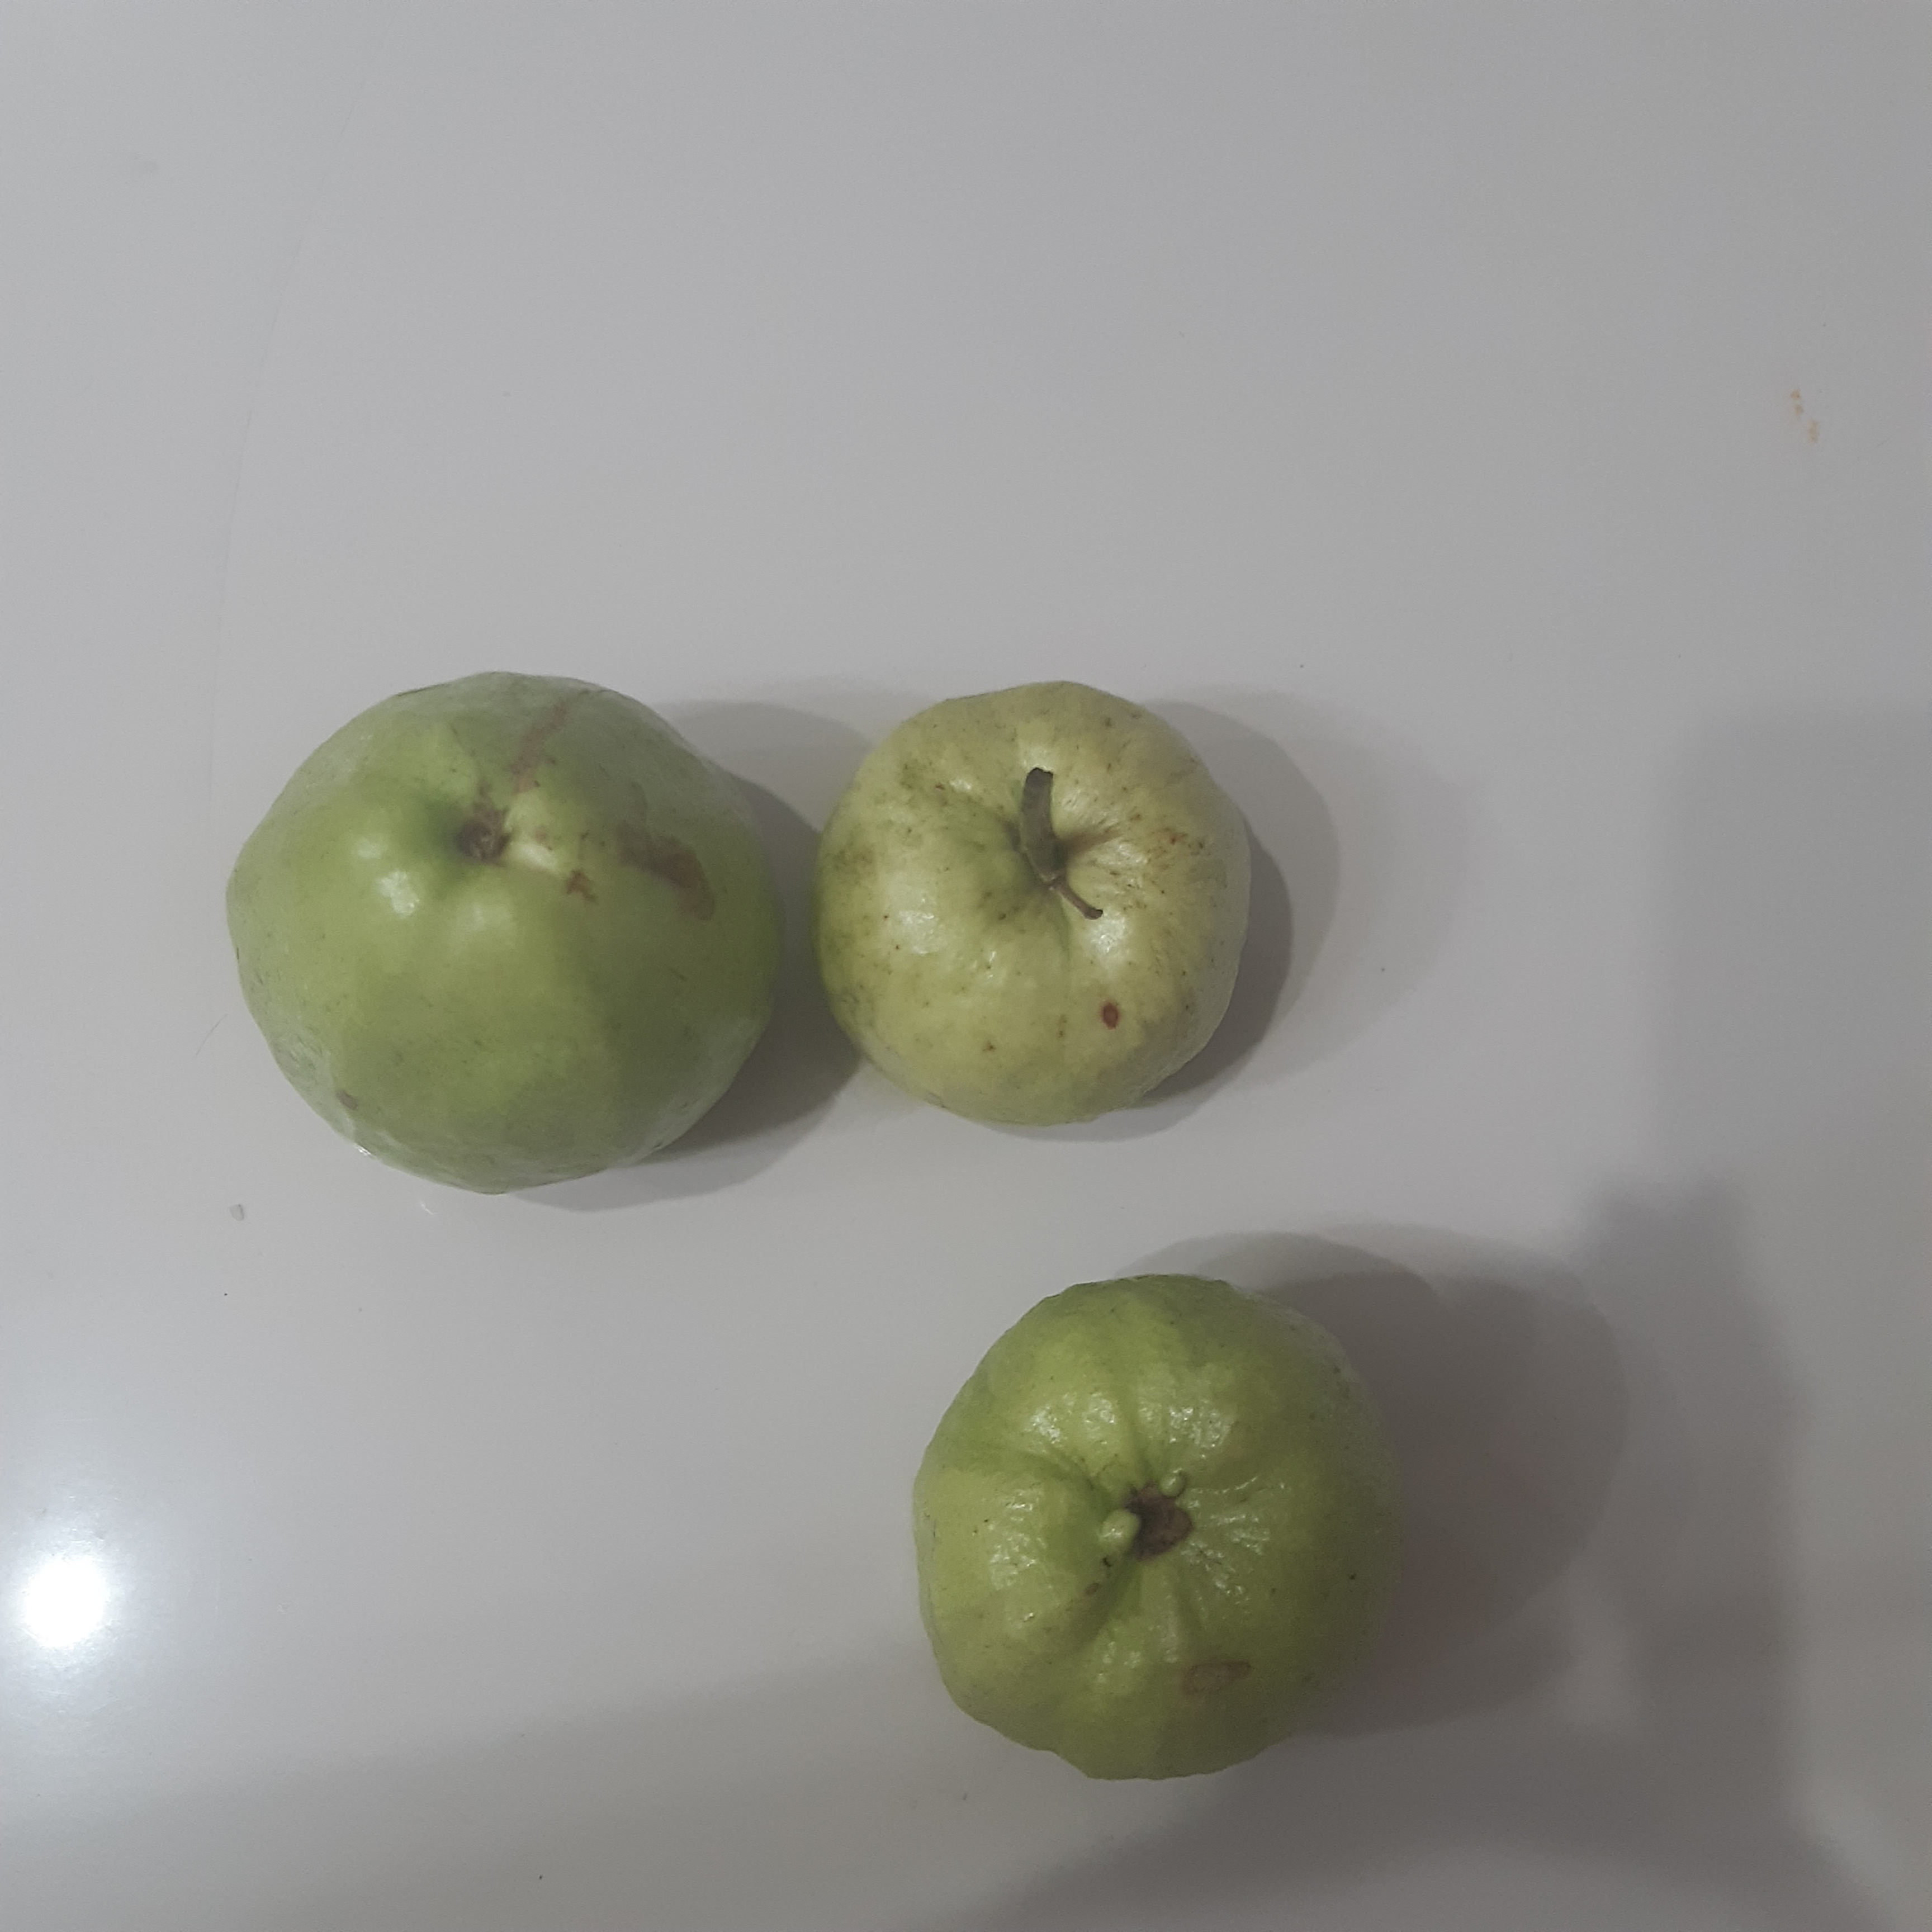Oi: (223, 671, 784, 1196), (909, 1272, 1405, 1783), (807, 676, 1254, 1131)
